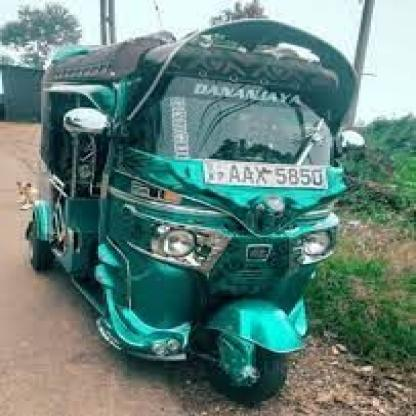number plate: (220, 165, 330, 186)
three wheeler front: (23, 16, 367, 400)
